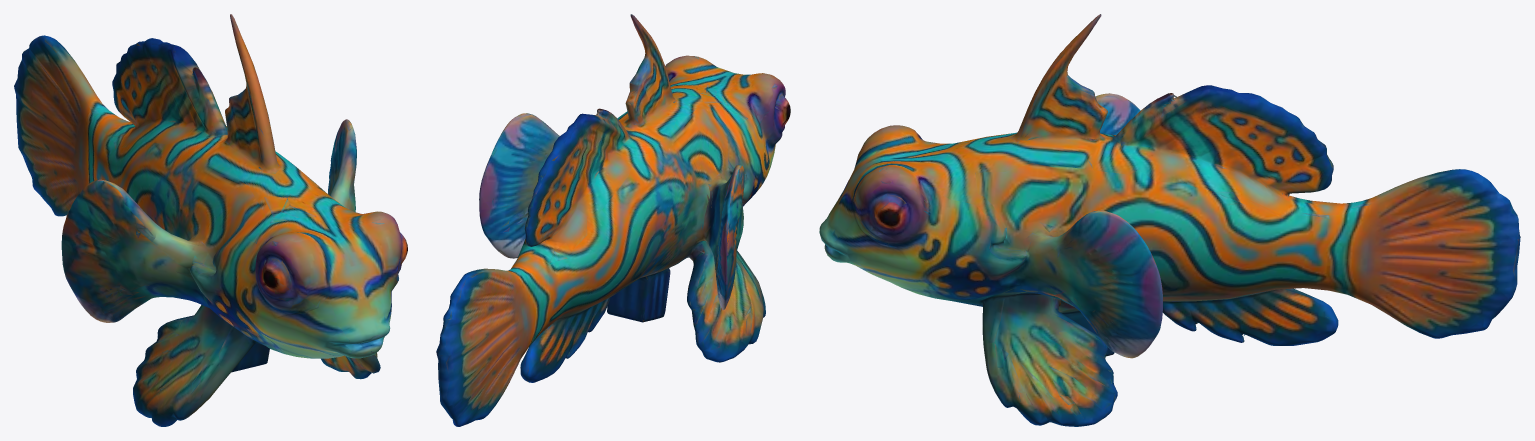
File: fish_mandarin.glb
3 renders of one model, left to right at view 1: azimuth 30°, elevation 25°; view 2: azimuth 150°, elevation 25°; view 3: azimuth 270°, elevation 25°, orthographic. The views are drawn at different scales.
Visible parts, largest first — view 1: Mesh_0; view 2: Mesh_0; view 3: Mesh_0.
Part boxes in pixels (left/top/right/bottom): Mesh_0: left=14, top=14, right=407, bottom=426; Mesh_0: left=436, top=14, right=790, bottom=426; Mesh_0: left=819, top=14, right=1520, bottom=426.
Size of the model in its own units: 0.8653 by 1.1 by 1.91.
1 material, 1 textured.
